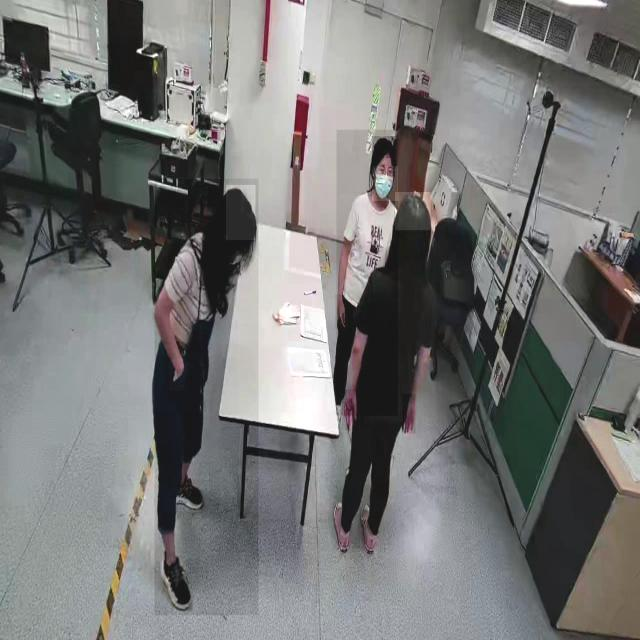face_mask: (372, 166, 398, 201)
hand_noglove: (342, 389, 358, 431), (402, 394, 416, 434), (169, 359, 185, 392), (335, 294, 346, 330)
head_nohelmet: (226, 185, 256, 241), (395, 192, 431, 231), (372, 136, 396, 159)
person: (155, 179, 259, 616), (337, 195, 437, 560), (336, 130, 398, 416)
shoes: (157, 547, 193, 611), (170, 468, 204, 512), (331, 496, 353, 555), (358, 499, 378, 557)
